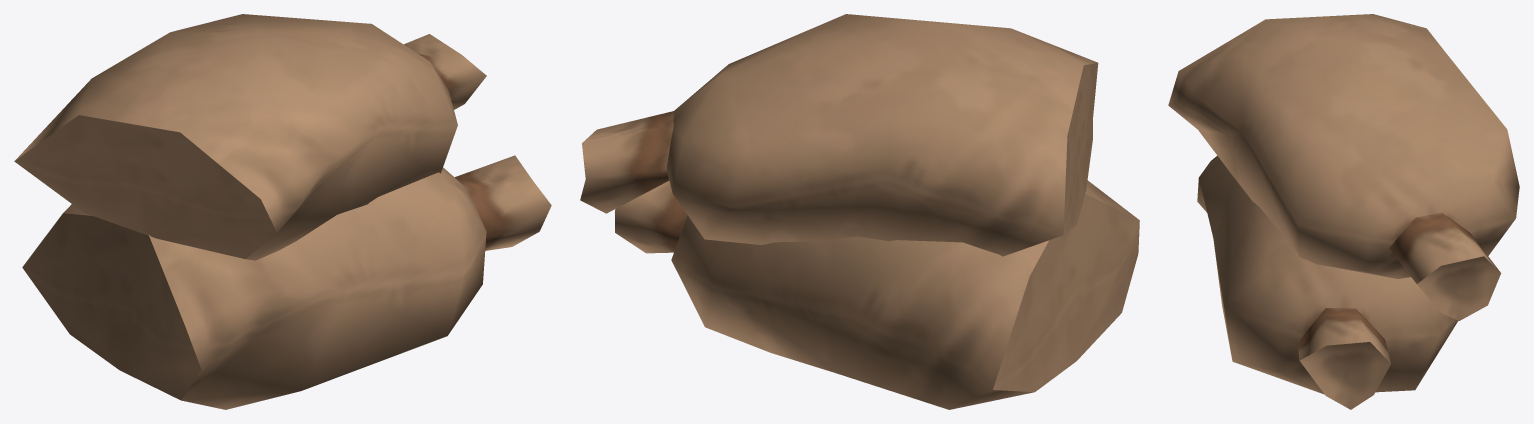
Rendered from Pfb_BagsTile__4.fbx.
3 renders of one model, left to right at view 1: azimuth 30°, elevation 25°; view 2: azimuth 150°, elevation 25°; view 3: azimuth 270°, elevation 25°, orthographic. The views are drawn at different scales.
Visible parts, largest first — view 1: Mat_Bags_01_1; view 2: Mat_Bags_01_1; view 3: Mat_Bags_01_1.
Boxes of the visible parts, bbox=[...] form: Mat_Bags_01_1: bbox=[14, 14, 551, 409]; Mat_Bags_01_1: bbox=[580, 14, 1139, 409]; Mat_Bags_01_1: bbox=[1168, 14, 1519, 409].
Size of the model in its own units: 1.26 by 0.8389 by 0.8901.
1 material, 1 textured.
